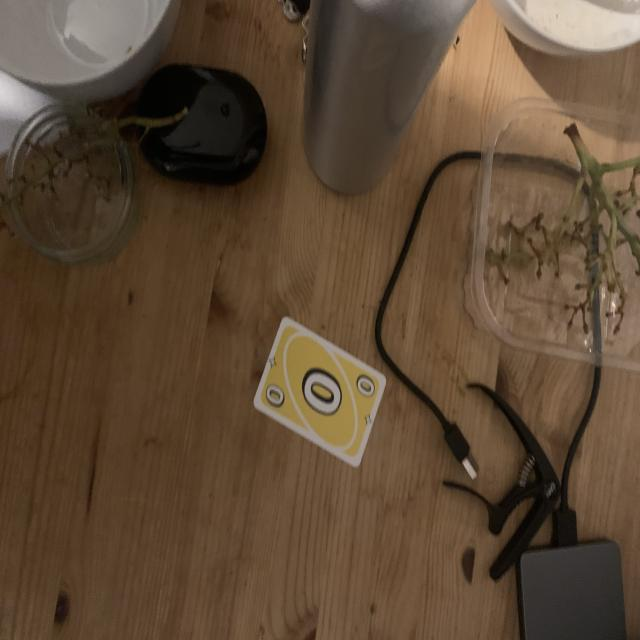lyellow-0: (262, 383, 288, 413)
